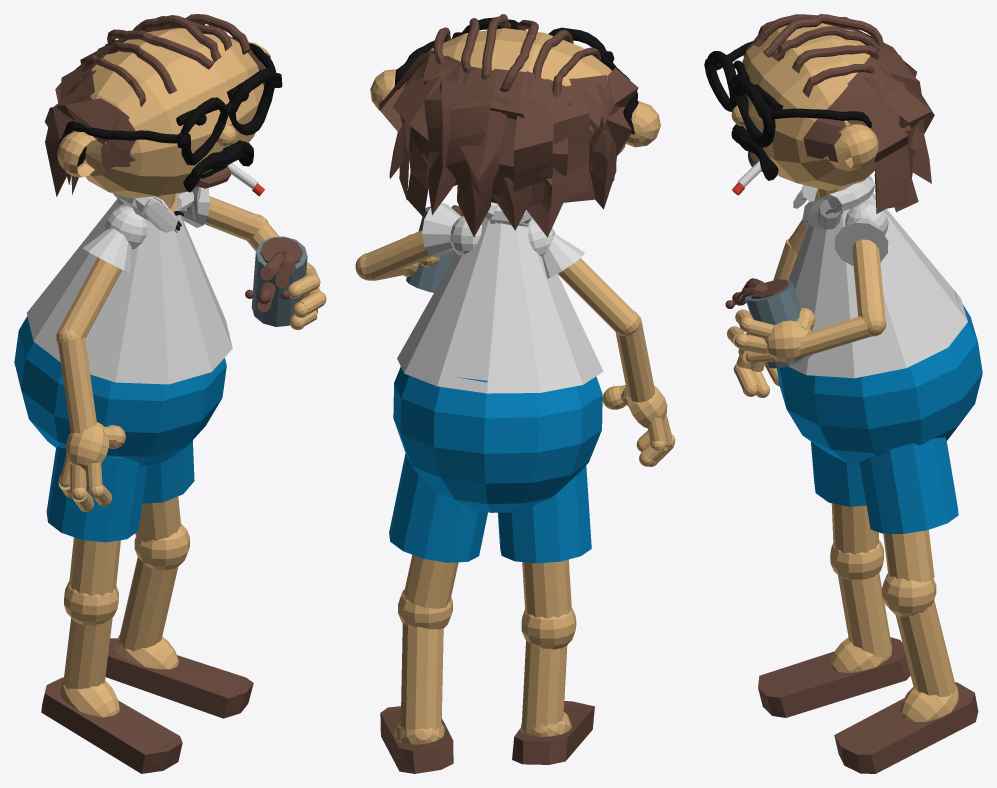
Rendered from oldmen.gltf.
3 renders of one model, left to right at view 1: azimuth 30°, elevation 25°; view 2: azimuth 150°, elevation 25°; view 3: azimuth 270°, elevation 25°, orthographic. The views are drawn at different scales.
Visible parts, largest first — view 1: node_MeshObject-1600296064-PolyPaper18, node_MeshObject619790976-PolyPaper20, node_MeshObject-791162432-PolyPaper21; view 2: node_MeshObject619790976-PolyPaper20, node_MeshObject-1600296064-PolyPaper18, node_MeshObject-791162432-PolyPaper21; view 3: node_MeshObject-1600296064-PolyPaper18, node_MeshObject619790976-PolyPaper20, node_MeshObject-791162432-PolyPaper21.
Part boxes in pixels (x1,y1,x2,y2): node_MeshObject-1600296064-PolyPaper18: (14,193,307,773); node_MeshObject619790976-PolyPaper20: (26,14,326,511); node_MeshObject-791162432-PolyPaper21: (44,15,282,226); node_MeshObject619790976-PolyPaper20: (355,19,667,466); node_MeshObject-1600296064-PolyPaper18: (380,205,675,773); node_MeshObject-791162432-PolyPaper21: (370,14,660,155); node_MeshObject-1600296064-PolyPaper18: (725,278,982,773); node_MeshObject619790976-PolyPaper20: (727,14,967,397); node_MeshObject-791162432-PolyPaper21: (704,14,880,229).
Size of the model in its own units: 0.6446 by 1.69 by 0.6038.
